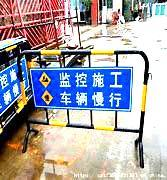sign: (29, 67, 132, 111)
